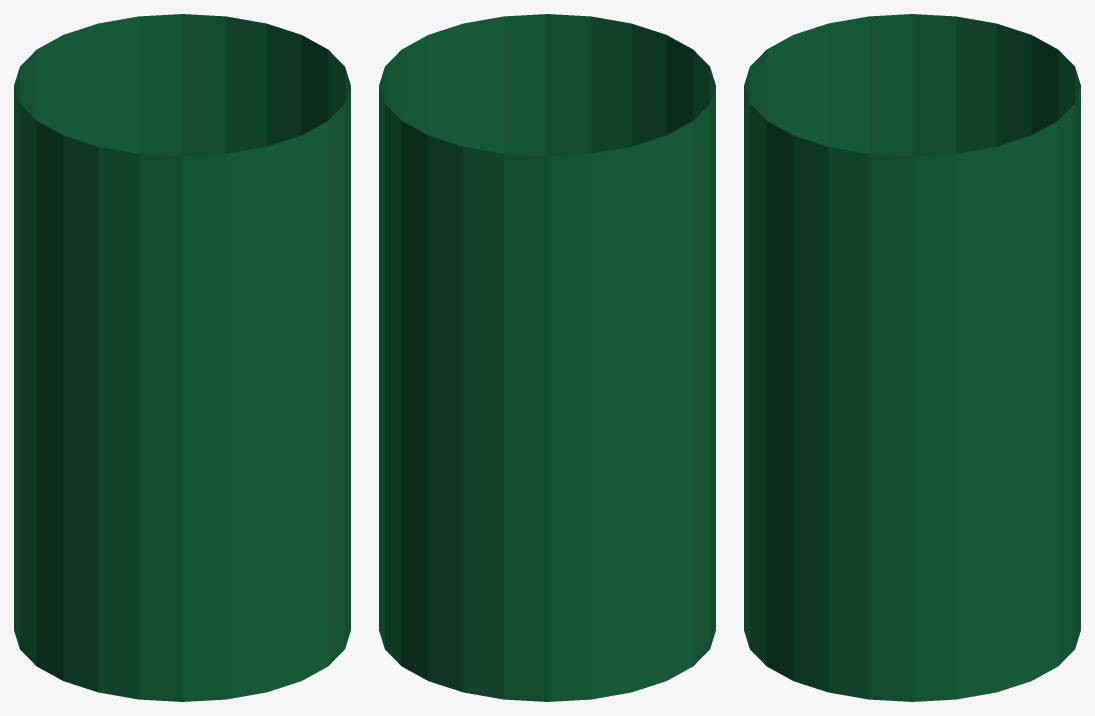
The model's file is capsula_vidro.obj.
The picture shows the model from 3 angles, left to right: view 1: azimuth 30°, elevation 25°; view 2: azimuth 150°, elevation 25°; view 3: azimuth 270°, elevation 25°; orthographic projection.
Size of the model in its own units: 2.03 by 3.63 by 2.03.
Materials: 1 (1 with a texture image).
